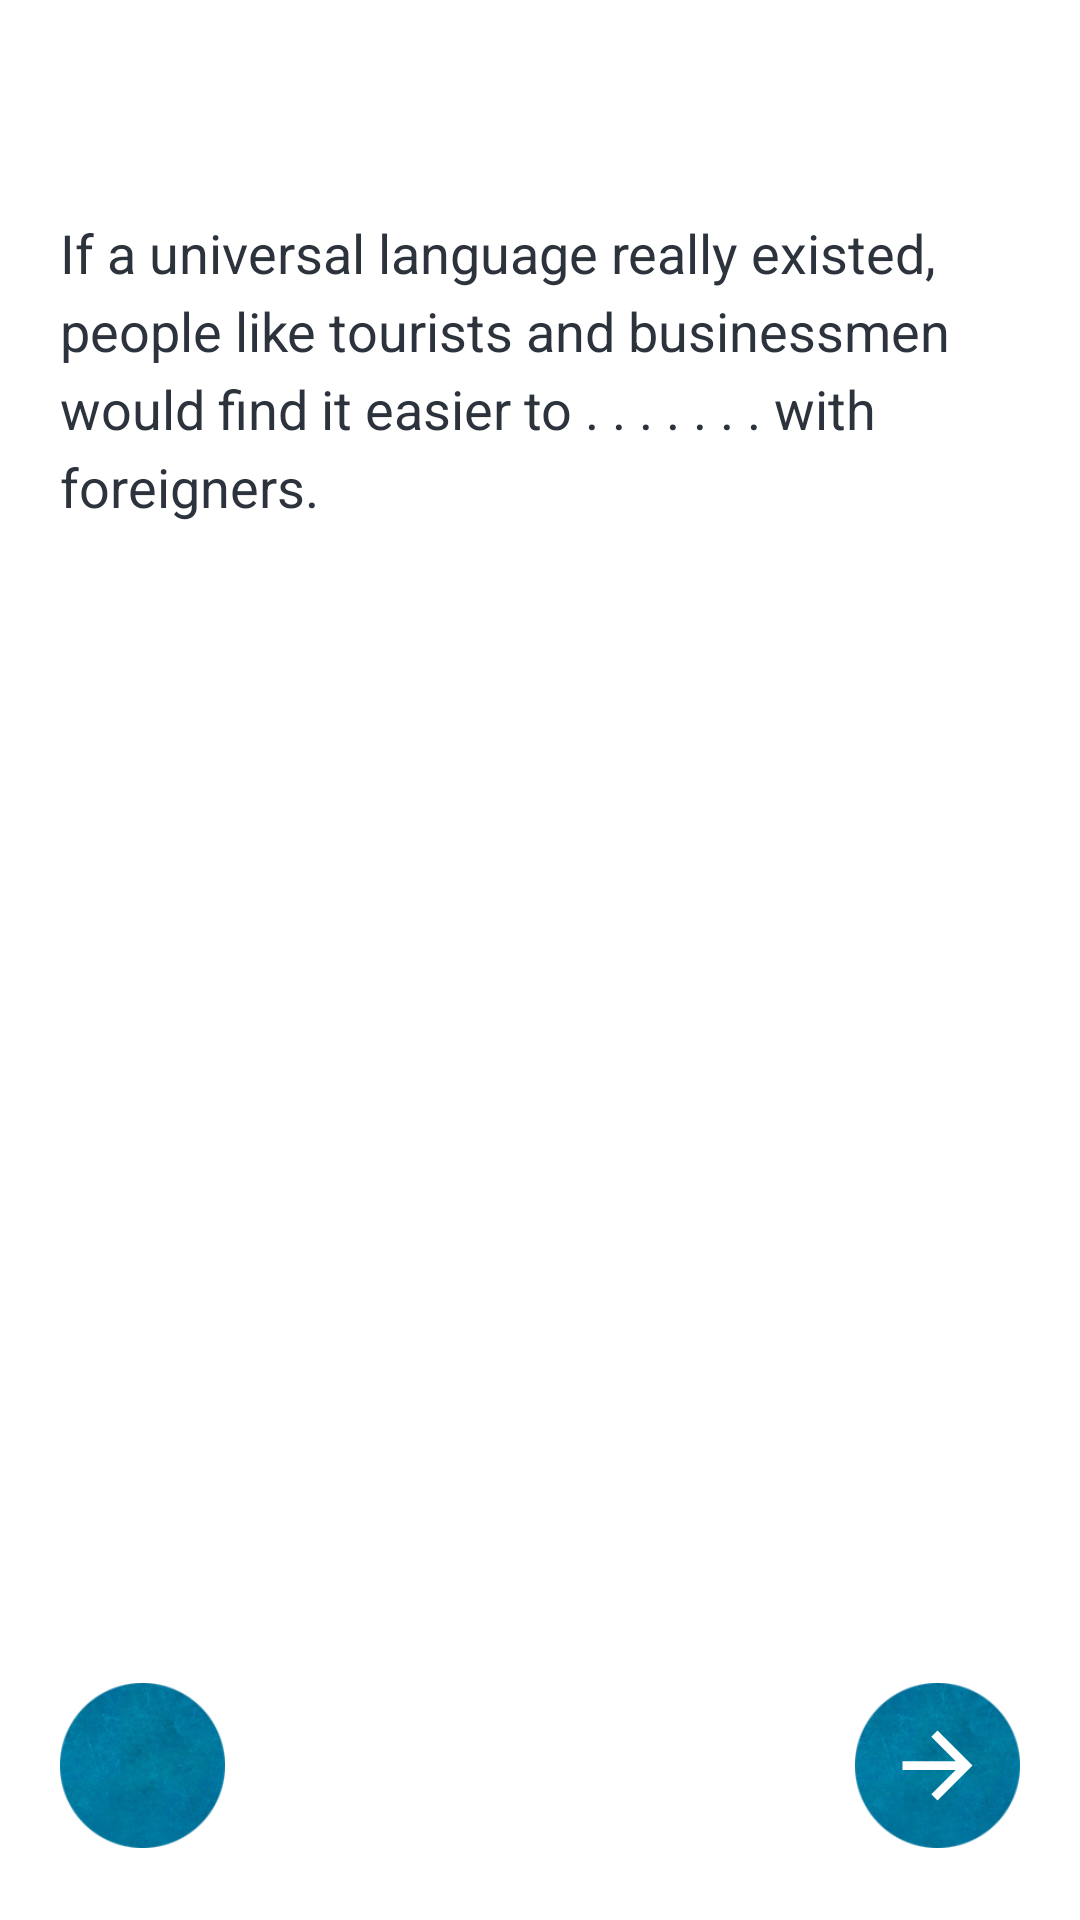

Icon bounding boxes for this 1080w x 1920h phone screenshot, format (x1, y1, x2, y2):
arrow forward: (855, 1683, 1020, 1848)
